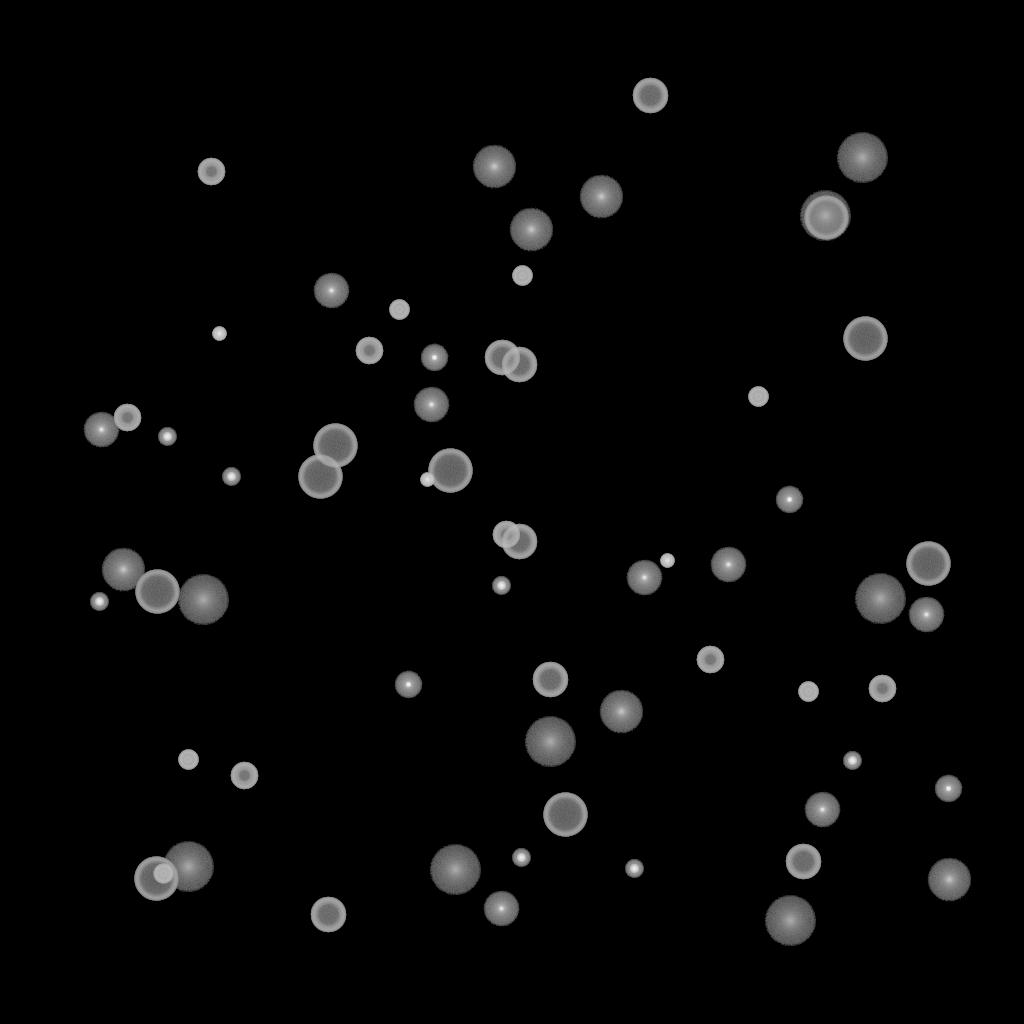depth:-10: (934, 775, 962, 803), (394, 671, 422, 699), (420, 344, 448, 372), (775, 486, 803, 514)
depth:-20: (158, 428, 176, 446), (843, 752, 861, 770), (625, 860, 643, 878), (90, 593, 108, 611), (512, 849, 530, 867), (222, 468, 240, 486), (492, 577, 510, 595)
depth:-30: (212, 327, 226, 341), (660, 554, 674, 568), (420, 473, 434, 487)
depth:-40: (748, 387, 768, 407), (512, 266, 532, 286), (153, 864, 173, 884), (798, 682, 818, 702), (178, 750, 198, 770), (389, 300, 409, 320)
depth:-50: (113, 404, 141, 432), (355, 337, 383, 365), (197, 158, 225, 186), (868, 675, 896, 703), (230, 762, 258, 790), (492, 521, 520, 549), (696, 646, 724, 674)
depth:-60: (310, 897, 346, 933), (501, 347, 537, 383), (484, 340, 520, 376), (785, 844, 821, 880), (532, 662, 568, 698), (501, 524, 537, 560), (632, 78, 668, 114)
depth:-70: (298, 455, 342, 499), (843, 317, 887, 361), (134, 857, 178, 901), (313, 424, 357, 468), (428, 449, 472, 493), (135, 570, 179, 614), (906, 542, 950, 586), (804, 196, 848, 240), (543, 793, 587, 837)
depth:0: (626, 560, 662, 596), (908, 597, 944, 633), (83, 412, 119, 448), (804, 792, 840, 828), (413, 387, 449, 423), (710, 547, 746, 583), (313, 273, 349, 309), (483, 891, 519, 927)
depth:10: (472, 145, 516, 189), (509, 208, 553, 252), (579, 175, 623, 219), (101, 548, 145, 592), (599, 690, 643, 734), (927, 858, 971, 902)
depth:20: (854, 574, 906, 624), (799, 191, 851, 241), (162, 842, 214, 892), (429, 845, 481, 895), (836, 133, 888, 183), (177, 575, 229, 625), (524, 717, 576, 767), (764, 896, 816, 946)
